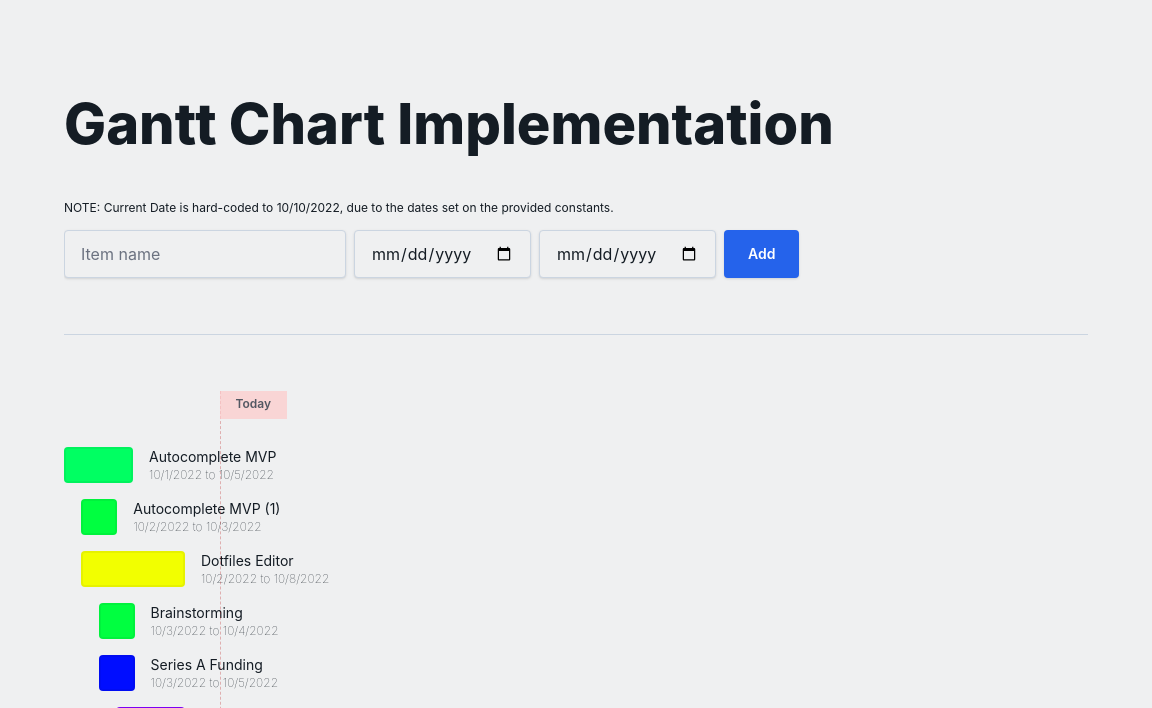
Test case: Basic › should handle basic form errors
This screenshot has width=1152, height=708.
What coordinates should you click on to do the following:
click the button "Add"
I would click on:
 (762, 254)
Its box is [724,230,800,278].
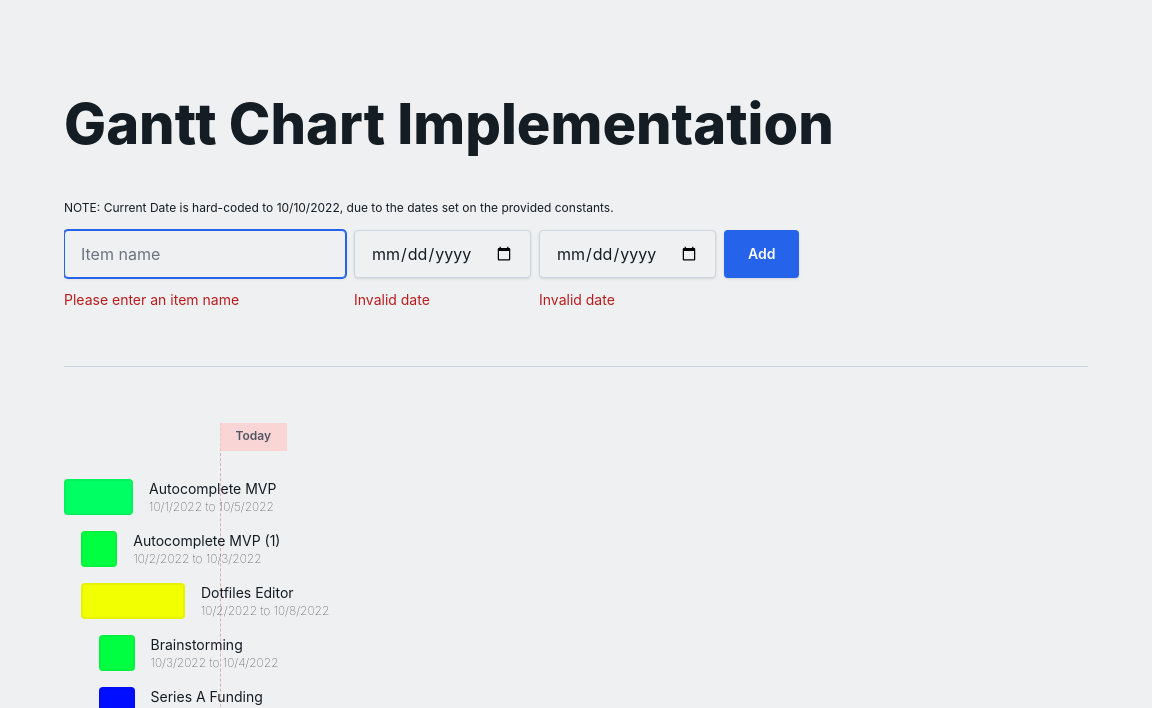
Check: the text "Please enter an item name" is shown, box [64,291,239,308]
Check: the 1st text "Invalid date" is shown, box [354,291,430,308]
Check: the 2nd text "Invalid date" is shown, box [539,291,615,308]
